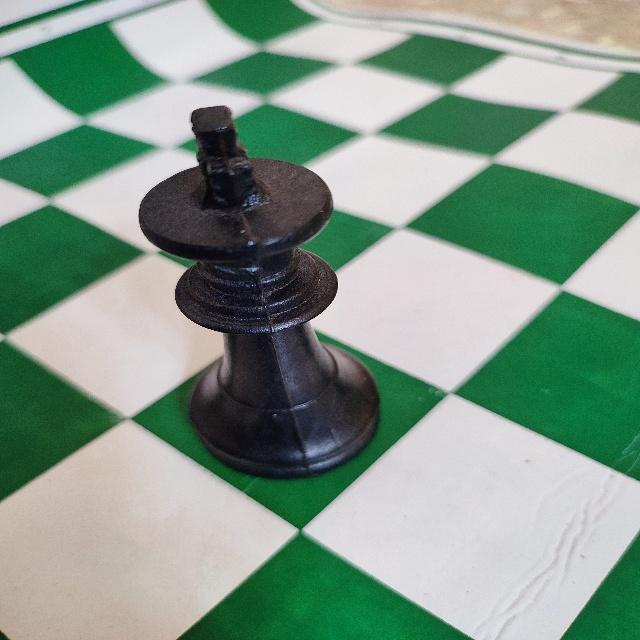King: (134, 102, 383, 482)
